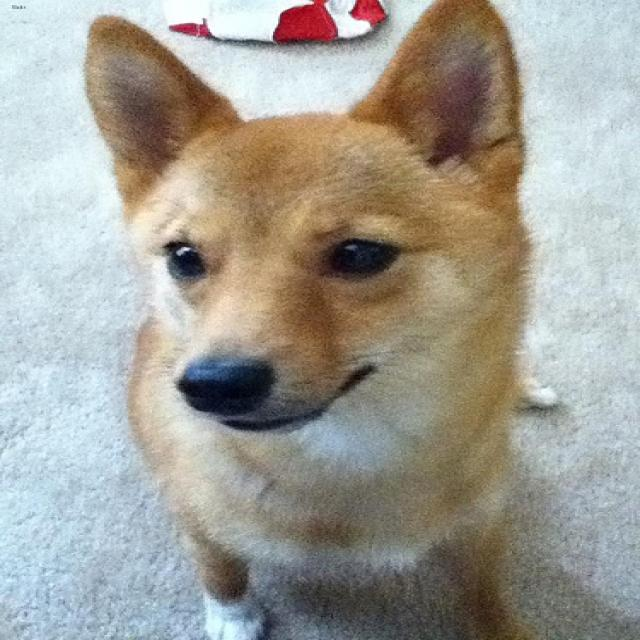dog-shiba_inu: (75, 1, 572, 637)
